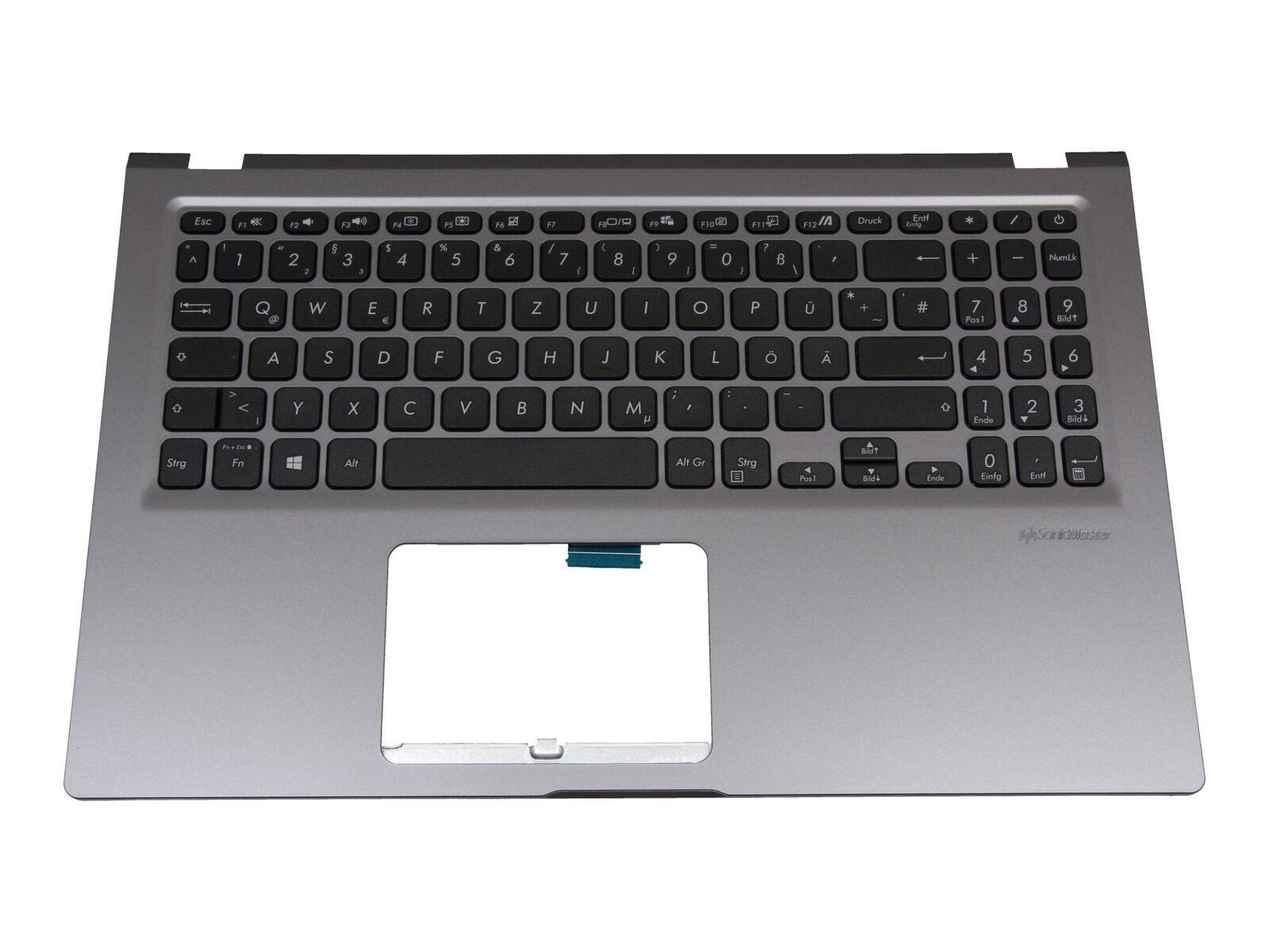0: (701, 236, 748, 278)
1: (213, 237, 262, 278)
2: (267, 237, 316, 278)
3: (322, 237, 370, 279)
4: (376, 238, 424, 278)
5: (431, 238, 478, 278)
6: (484, 237, 532, 278)
7: (539, 237, 586, 278)
8: (592, 236, 640, 278)
9: (647, 236, 694, 278)
a: (247, 334, 297, 378)
accent: (808, 237, 855, 278)
ae: (799, 332, 848, 378)
alt-left: (324, 436, 376, 488)
altgr-right: (664, 434, 714, 486)
b: (494, 384, 546, 428)
c: (383, 383, 434, 428)
caret: (174, 237, 207, 278)
comma: (662, 383, 712, 428)
d: (358, 333, 407, 378)
del: (861, 236, 945, 279)
e: (347, 285, 395, 328)
enter: (854, 333, 953, 379)
f: (414, 333, 462, 378)
g: (468, 333, 517, 378)
h: (524, 333, 573, 378)
hash: (892, 284, 949, 328)
i: (620, 284, 669, 327)
j: (579, 332, 627, 378)
k: (634, 332, 683, 377)
keyboard: (137, 194, 1121, 505)
l: (689, 332, 738, 377)
less: (219, 384, 266, 429)
m: (606, 382, 657, 428)
minus: (773, 385, 823, 428)
n: (550, 383, 601, 428)
o: (675, 284, 723, 327)
oe: (745, 333, 793, 377)
p: (730, 285, 776, 327)
plus: (838, 284, 885, 328)
point: (719, 384, 769, 428)
q: (236, 285, 286, 328)
r: (401, 285, 450, 328)
s: (302, 334, 351, 378)
shift-left: (161, 384, 216, 429)
shift-lock: (164, 334, 242, 378)
shift-right: (828, 382, 956, 428)
space: (381, 435, 658, 488)
ss: (755, 237, 802, 278)
strg-left: (155, 436, 205, 487)
strg-right: (719, 434, 771, 487)
t: (457, 284, 504, 327)
tab: (171, 284, 232, 329)
u: (565, 284, 614, 328)
ue: (784, 285, 830, 327)
v: (439, 383, 489, 428)
w: (291, 285, 341, 328)
x: (327, 383, 378, 428)
y: (271, 384, 320, 428)
z: (511, 284, 559, 328)
